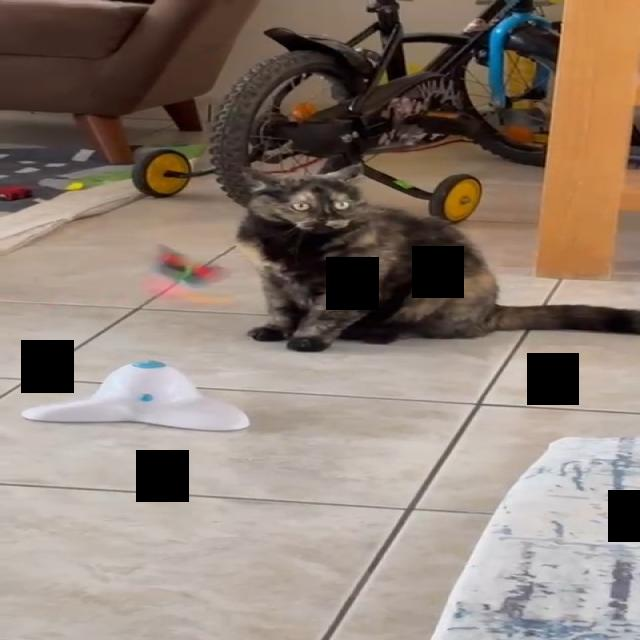authorized: (233, 163, 639, 352)
